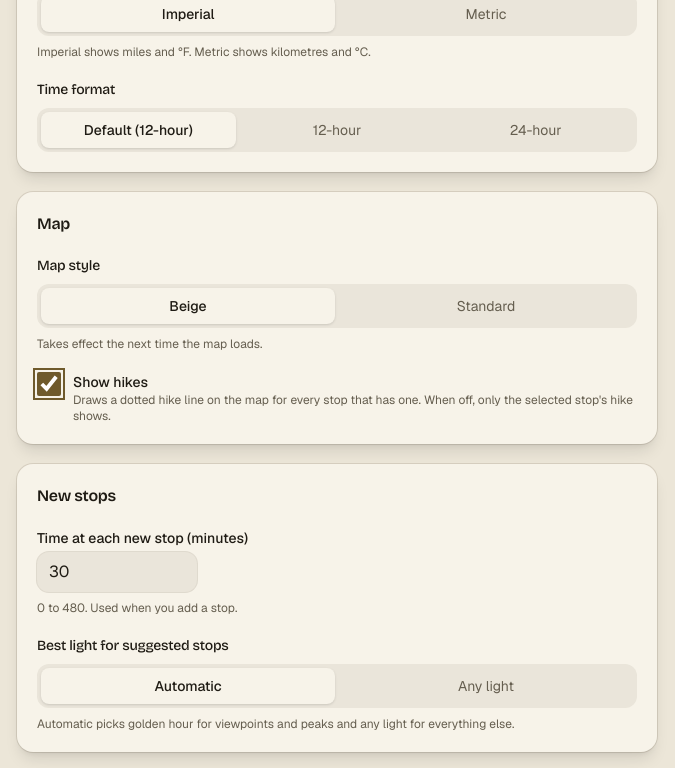
Test: SettingsView › Show hikes is a labelled checkbox: on by default, saves when switched off, and reset turns it back on
(page scrolled)
Check: the checkbox labelled "Show hikes" is checked, box [37,372,61,396]
Type keys " "
(page scrolled)
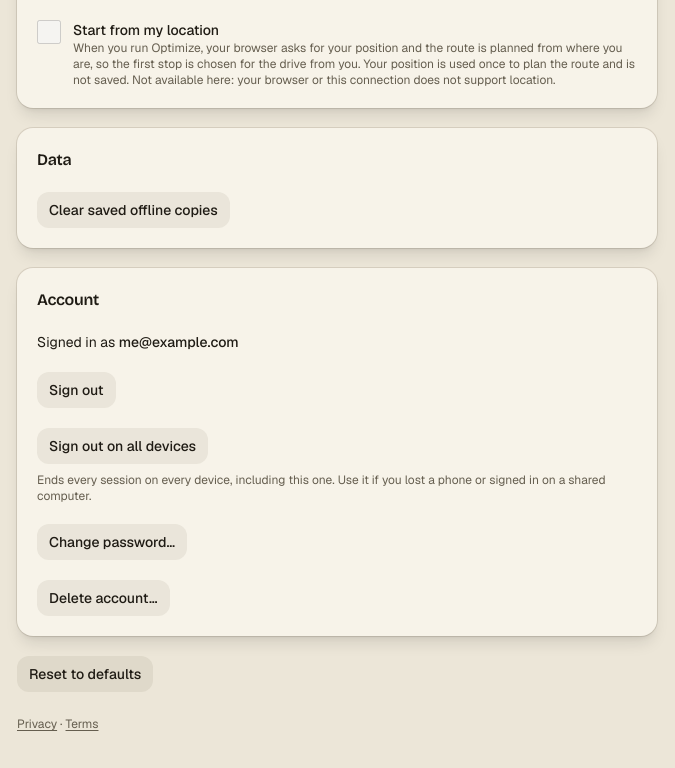
Click the button "Reset to defaults": (85, 674) [17,656,153,692]
(page scrolled)
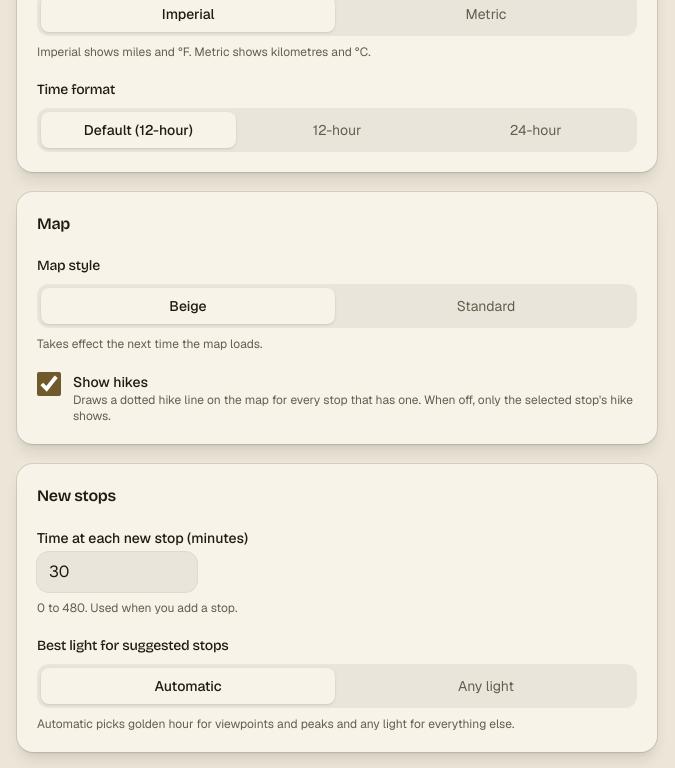
Check: the checkbox labelled "Show hikes" is checked, box [37,372,61,396]
